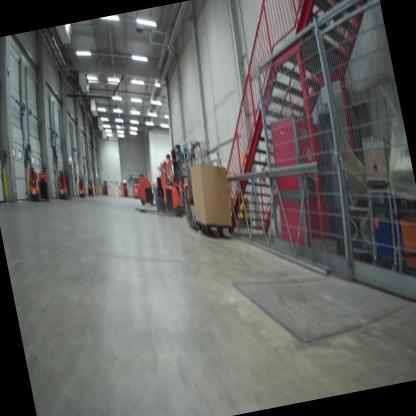forklift: (126, 142, 196, 225), (135, 148, 187, 218), (144, 151, 182, 210)
pallet_truck: (20, 161, 54, 208), (53, 163, 75, 203), (136, 170, 156, 206), (73, 174, 89, 199)
